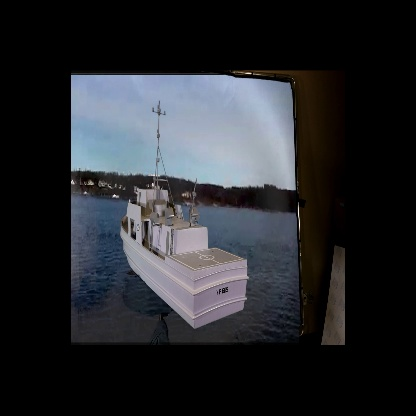YP689: (119, 103, 249, 330)
